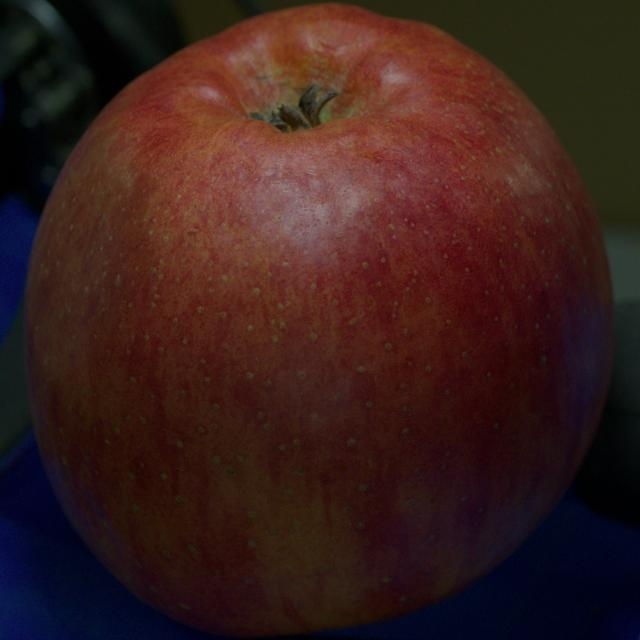apple: (25, 5, 613, 636)
